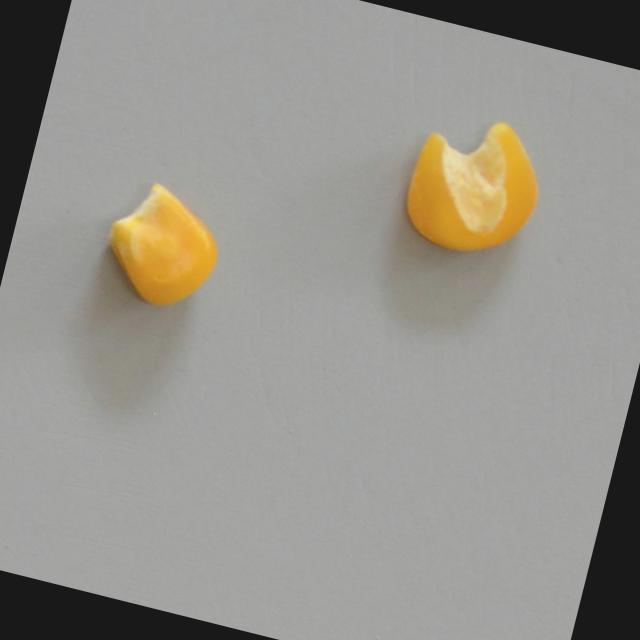dañado: (389, 99, 554, 272)
no_canjicado: (91, 173, 233, 320)
